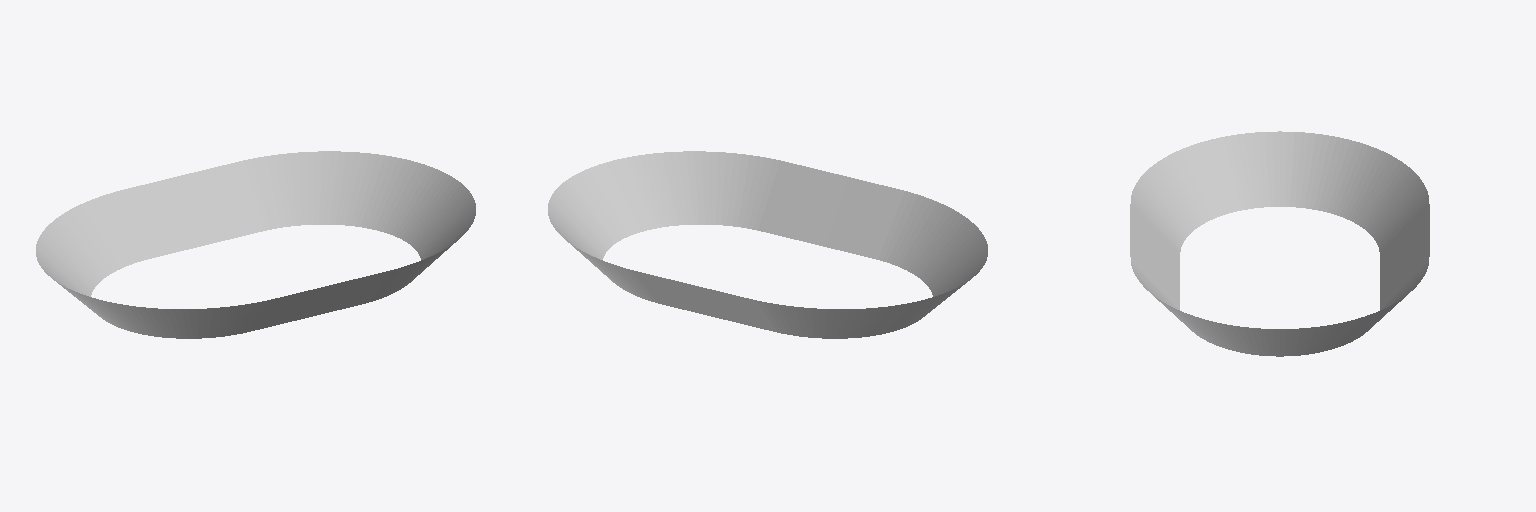
File: stadium_roof.obj
3 views of the same model, side by side, from view 1: azimuth 30°, elevation 25°; view 2: azimuth 150°, elevation 25°; view 3: azimuth 270°, elevation 25° (orthographic).
Visible parts, largest first — view 1: Stands_base_Cone.001; view 2: Stands_base_Cone.001; view 3: Stands_base_Cone.001.
Boxes of the visible parts, x1,y1,x2,y2 form: Stands_base_Cone.001: [36, 151, 475, 338]; Stands_base_Cone.001: [548, 151, 987, 338]; Stands_base_Cone.001: [1130, 131, 1429, 356].
Bounding box in the file's own units: 8.44 × 1.02 × 5.4.